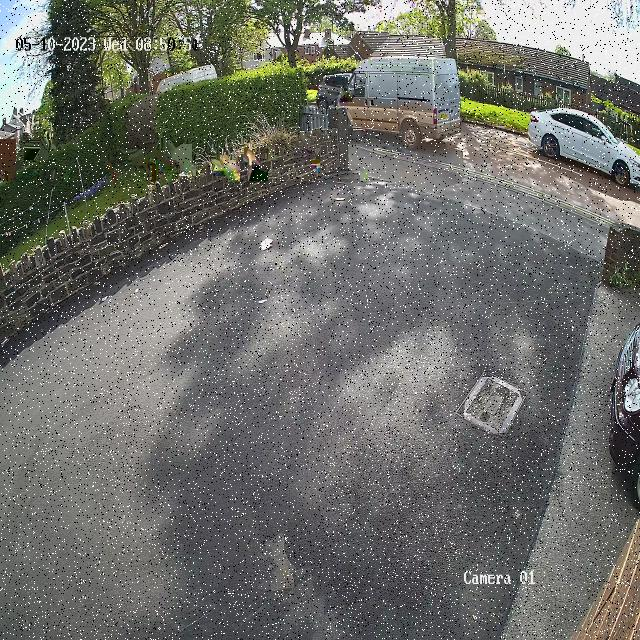vehicle: (313, 50, 462, 154), (521, 94, 640, 198)
